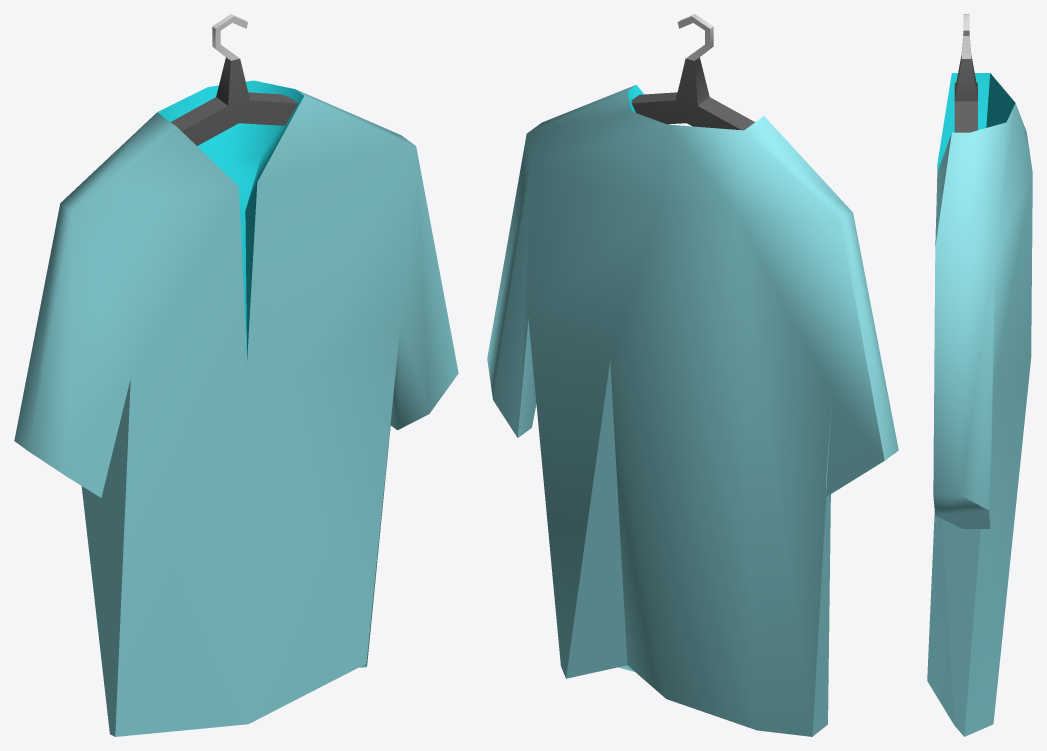
Rendered from clothes_018.glb.
The picture shows the model from 3 angles, left to right: view 1: azimuth 30°, elevation 25°; view 2: azimuth 150°, elevation 25°; view 3: azimuth 270°, elevation 25°; orthographic projection. The views are drawn at different scales.
Parts seen in each view (by area): view 1: clothes_018; view 2: clothes_018; view 3: clothes_018.
Boxes of the visible parts, bbox=[...] form: clothes_018: bbox=[14, 14, 458, 736]; clothes_018: bbox=[487, 14, 898, 736]; clothes_018: bbox=[927, 14, 1032, 736].
Size of the model in its own units: 0.5774 by 0.9291 by 0.1324.
1 material, 1 textured.
